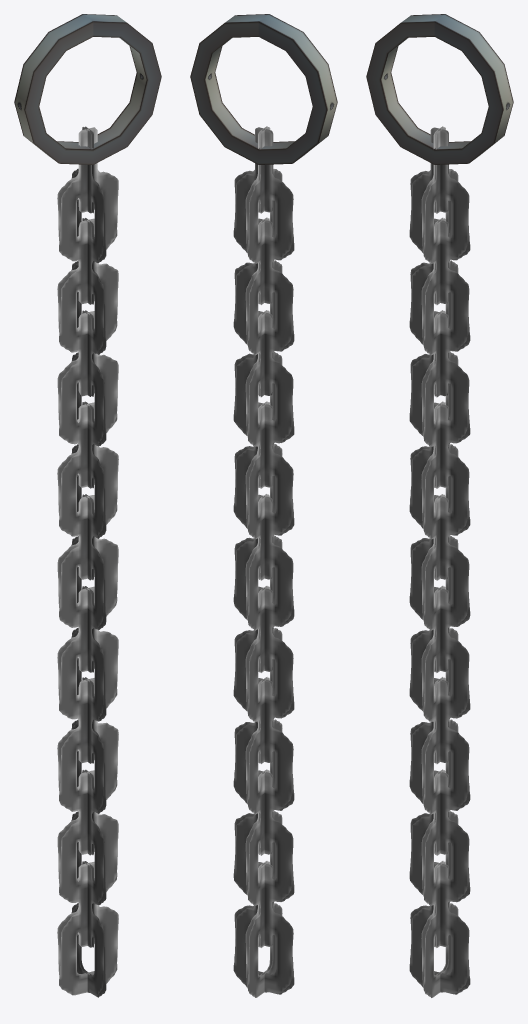
File: Chain_01.FBX
The picture shows the model from 3 angles, left to right: view 1: azimuth 30°, elevation 25°; view 2: azimuth 150°, elevation 25°; view 3: azimuth 330°, elevation 25°; orthographic projection.
Visible parts, largest first — view 1: Chain_01; view 2: Chain_01; view 3: Chain_01.
Boxes of the visible parts, x1,y1,x2,y2 form: Chain_01: (14,14,161,997); Chain_01: (190,14,337,997); Chain_01: (366,14,513,997).
Bounding box in the file's own units: 0.4795 × 3.27 × 0.2322.
